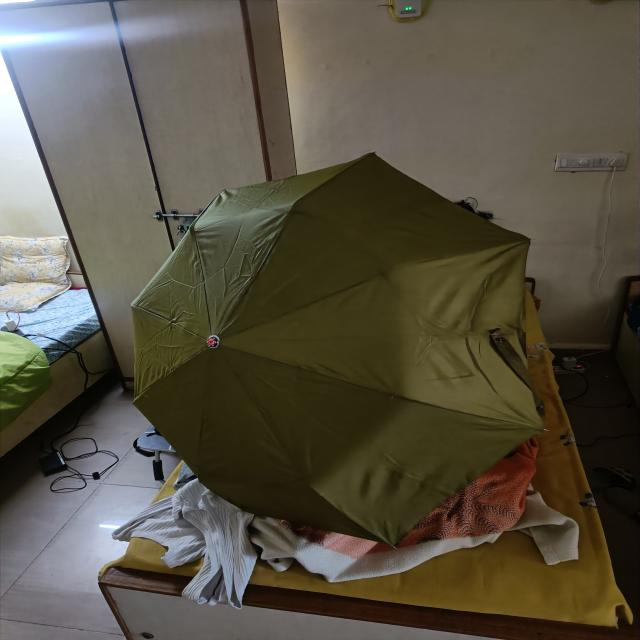umbrella: (130, 150, 542, 550)
